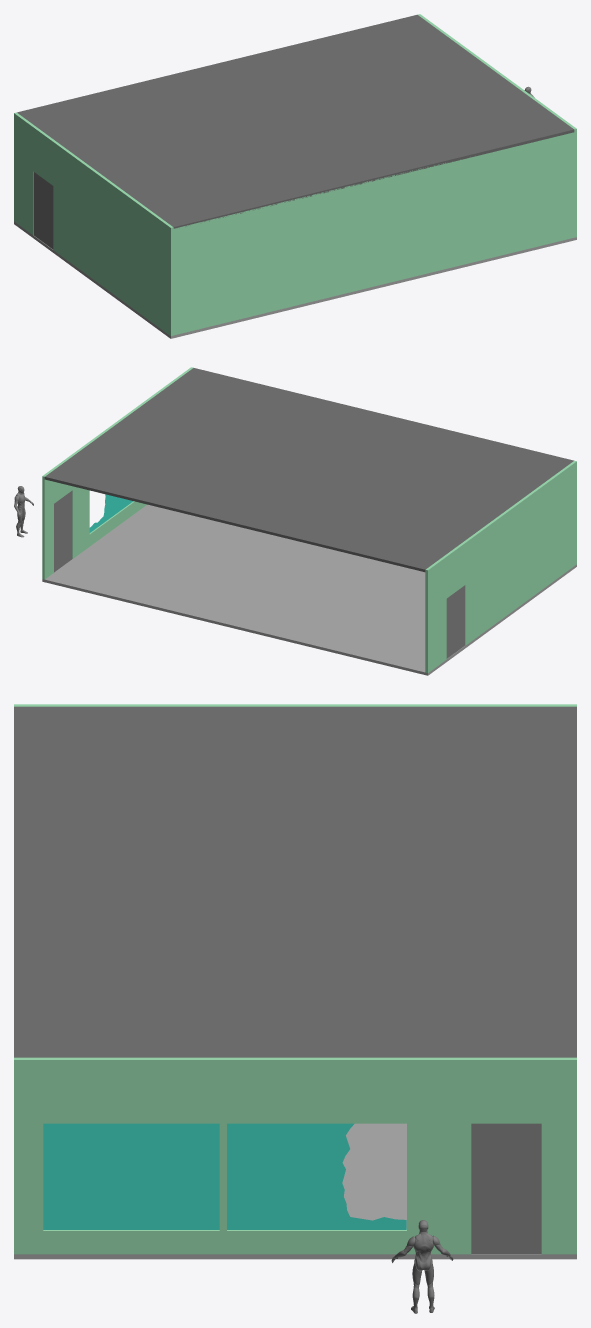
The model's file is Store.fbx.
3 renders of one model, top to bottom at view 1: azimuth 30°, elevation 25°; view 2: azimuth 150°, elevation 25°; view 3: azimuth 270°, elevation 25°, orthographic. The views are drawn at different scales.
Visible parts, largest first — view 1: Roof, BackWall, ExitWall, Floor, Cube.001, HoleWall; view 2: Roof, Floor, ExitWall, HoleWall, Cube, Cube.001, GlasBroken, SKM_Manny.001; view 3: Roof, HoleWall, Glas, GlasBroken, Cube, Floor, SKM_Manny.001, ExitWall.
Boxes of the visible parts, x1,y1,x2,y2 form: Roof: (17, 14, 574, 228); BackWall: (172, 132, 574, 335); ExitWall: (14, 112, 173, 335); Floor: (14, 221, 576, 338); Cube.001: (34, 172, 53, 249); HoleWall: (418, 14, 576, 237); Roof: (44, 368, 573, 572); Floor: (42, 504, 576, 675); ExitWall: (425, 460, 576, 673); HoleWall: (42, 367, 193, 579); Cube: (54, 491, 72, 572); Cube.001: (446, 585, 464, 658); GlasBroken: (89, 494, 132, 532); SKM_Manny.001: (14, 486, 33, 537); Roof: (14, 706, 576, 1057); HoleWall: (14, 1057, 576, 1254); Glas: (43, 1123, 219, 1229); GlasBroken: (227, 1123, 406, 1229); Cube: (471, 1123, 541, 1253); Floor: (14, 1123, 576, 1259); SKM_Manny.001: (391, 1220, 453, 1313); ExitWall: (14, 704, 576, 706).
Size of the model in its own units: 1769 by 395 by 1010.
